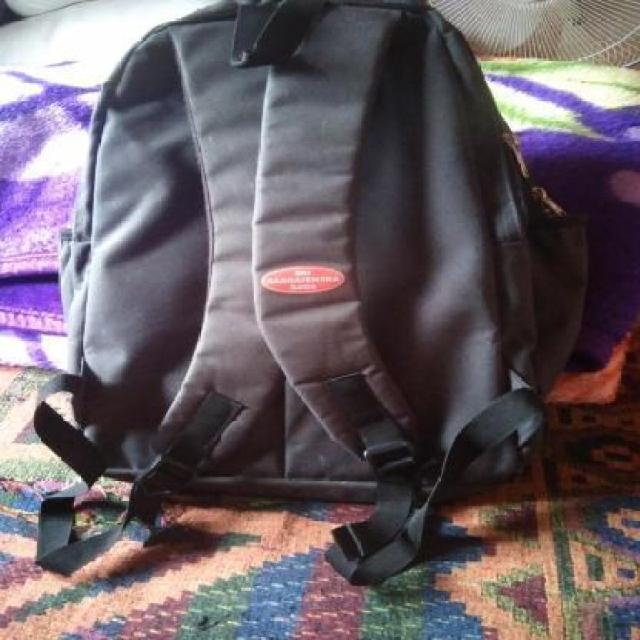backpack: (29, 0, 597, 591)
